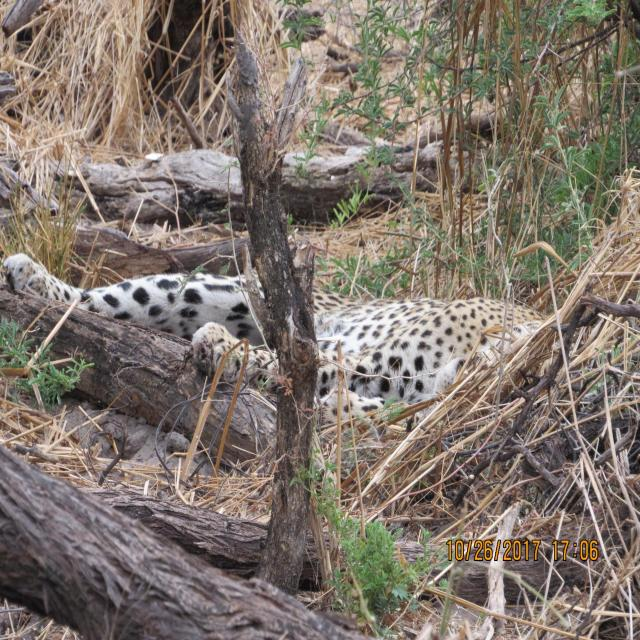Leopard: (0, 244, 567, 419)
